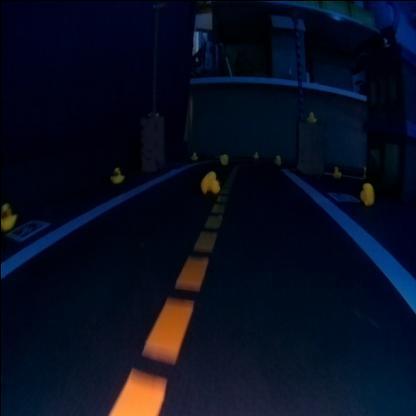Duckie: (1, 202, 15, 230), (200, 170, 217, 191), (360, 182, 374, 203), (109, 165, 123, 183), (306, 110, 316, 121), (332, 164, 340, 172), (274, 152, 280, 160), (253, 149, 259, 157), (218, 153, 224, 161), (191, 152, 196, 158)
QR code: (8, 218, 45, 240), (327, 192, 357, 200)
